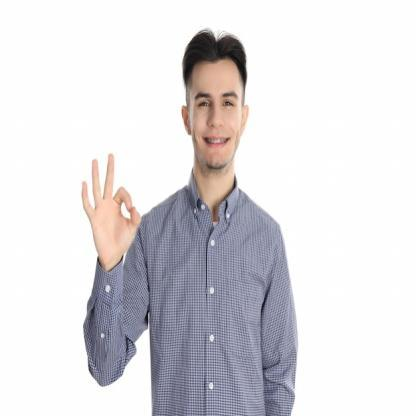ok: (80, 148, 144, 273)
